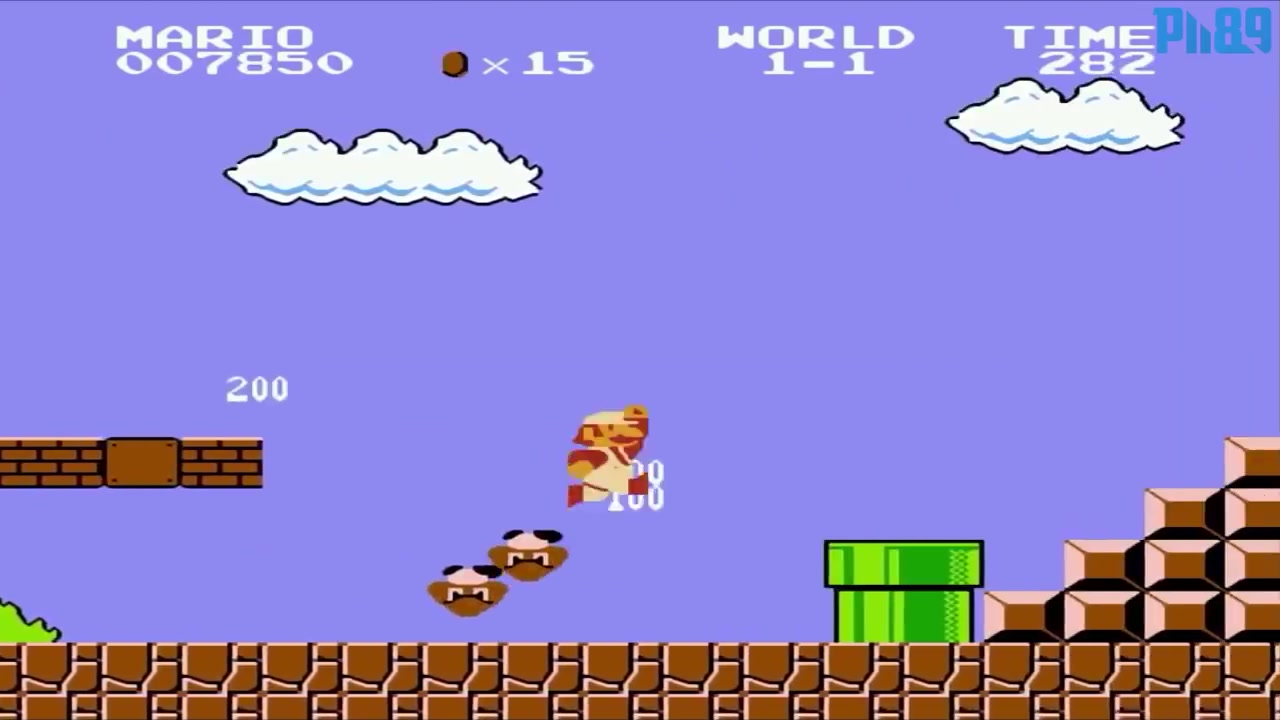mario: (556, 408, 675, 525)
